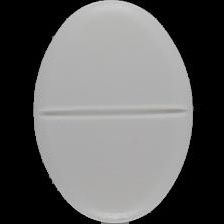68462-332: (0, 0, 224, 224)
